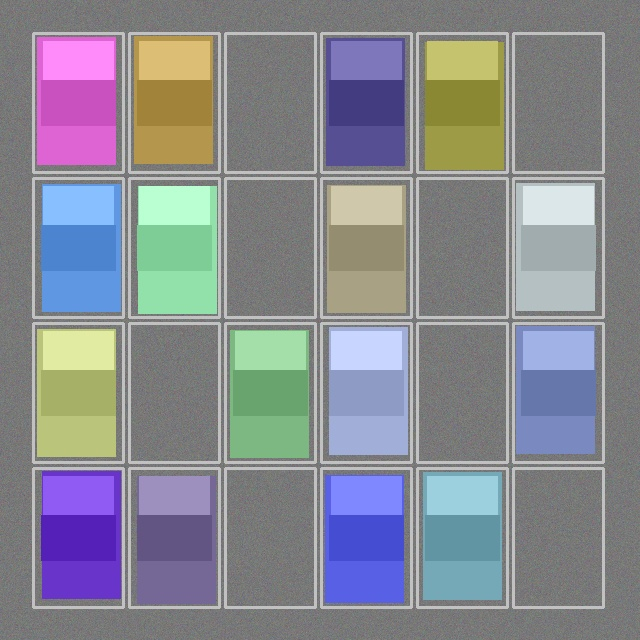space-empty: (227, 35, 313, 170), (515, 35, 601, 170), (227, 180, 313, 315), (419, 180, 505, 315), (131, 325, 217, 460), (419, 325, 505, 460), (227, 470, 313, 605), (515, 470, 601, 605)
space-occupied: (35, 35, 121, 170), (131, 35, 217, 170), (323, 35, 409, 170), (419, 35, 505, 170), (35, 180, 121, 315), (131, 180, 217, 315), (323, 180, 409, 315), (515, 180, 601, 315), (35, 325, 121, 460), (227, 325, 313, 460), (323, 325, 409, 460), (515, 325, 601, 460), (35, 470, 121, 605), (131, 470, 217, 605), (323, 470, 409, 605), (419, 470, 505, 605)
